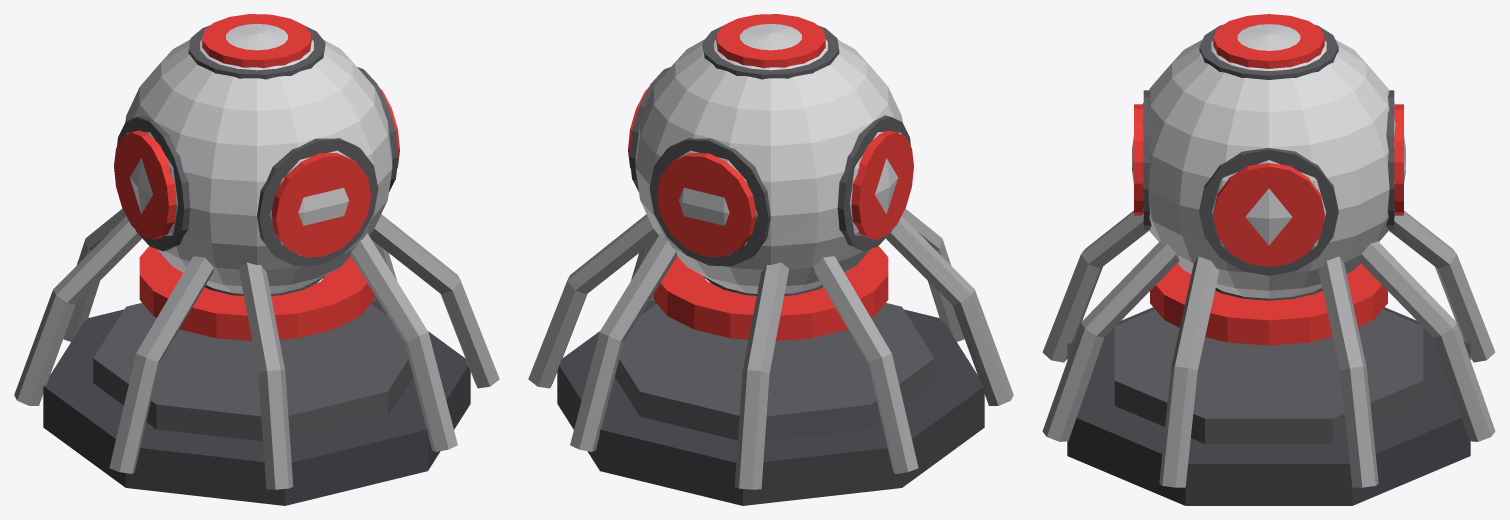
The model's file is vge_e_grav_field_extender.obj.
The picture shows the model from 3 angles, left to right: view 1: azimuth 30°, elevation 25°; view 2: azimuth 150°, elevation 25°; view 3: azimuth 270°, elevation 25°; orthographic projection.
Visible parts, largest first — view 1: vge_grav_field_extender_11, vge_grav_field_extender_0, vge_grav_field_extender_1, vge_grav_field_extender_10, vge_grav_field_extender_21, vge_grav_field_extender_8, vge_grav_field_extender_9, vge_grav_field_extender_7, vge_grav_field_extender_6, vge_grav_field_extender_2, vge_grav_field_extender_23, vge_grav_field_extender_20 (+5 smaller); view 2: vge_grav_field_extender_11, vge_grav_field_extender_0, vge_grav_field_extender_1, vge_grav_field_extender_10, vge_grav_field_extender_17, vge_grav_field_extender_5, vge_grav_field_extender_4, vge_grav_field_extender_6, vge_grav_field_extender_7, vge_grav_field_extender_3, vge_grav_field_extender_23, vge_grav_field_extender_16 (+5 smaller); view 3: vge_grav_field_extender_11, vge_grav_field_extender_0, vge_grav_field_extender_1, vge_grav_field_extender_10, vge_grav_field_extender_19, vge_grav_field_extender_4, vge_grav_field_extender_9, vge_grav_field_extender_2, vge_grav_field_extender_3, vge_grav_field_extender_18, vge_grav_field_extender_5, vge_grav_field_extender_8 (+6 smaller).
Part boxes in pixels (box(x1,y1,x2,y2)): vge_grav_field_extender_11: box(125, 23, 392, 293); vge_grav_field_extender_0: box(43, 300, 470, 505); vge_grav_field_extender_1: box(93, 303, 412, 441); vge_grav_field_extender_10: box(139, 246, 374, 340); vge_grav_field_extender_21: box(271, 153, 371, 257); vge_grav_field_extender_8: box(239, 262, 293, 489); vge_grav_field_extender_9: box(350, 233, 457, 451); vge_grav_field_extender_7: box(109, 256, 213, 473); vge_grav_field_extender_6: box(14, 216, 142, 405); vge_grav_field_extender_2: box(369, 214, 499, 388); vge_grav_field_extender_23: box(114, 130, 176, 239); vge_grav_field_extender_20: box(257, 138, 378, 266); vge_grav_field_extender_11: box(635, 23, 902, 293); vge_grav_field_extender_0: box(557, 300, 984, 505); vge_grav_field_extender_1: box(615, 303, 934, 441); vge_grav_field_extender_10: box(653, 246, 888, 340); vge_grav_field_extender_17: box(656, 153, 756, 257); vge_grav_field_extender_5: box(734, 262, 788, 489); vge_grav_field_extender_4: box(570, 233, 677, 451); vge_grav_field_extender_6: box(814, 256, 918, 473); vge_grav_field_extender_7: box(885, 216, 1013, 405); vge_grav_field_extender_3: box(528, 214, 658, 388); vge_grav_field_extender_23: box(851, 130, 913, 239); vge_grav_field_extender_16: box(649, 138, 770, 266); vge_grav_field_extender_11: box(1132, 24, 1405, 298); vge_grav_field_extender_0: box(1067, 307, 1470, 505); vge_grav_field_extender_1: box(1114, 309, 1423, 443); vge_grav_field_extender_10: box(1150, 263, 1387, 345); vge_grav_field_extender_19: box(1213, 163, 1324, 267); vge_grav_field_extender_4: box(1358, 241, 1495, 441); vge_grav_field_extender_9: box(1042, 241, 1179, 441); vge_grav_field_extender_2: box(1159, 256, 1219, 487); vge_grav_field_extender_3: box(1318, 256, 1378, 487); vge_grav_field_extender_18: box(1199, 148, 1338, 275); vge_grav_field_extender_5: box(1388, 210, 1495, 362); vge_grav_field_extender_8: box(1042, 210, 1149, 362).
Bounding box in the file's own units: 0.976 × 0.92 × 0.976.
